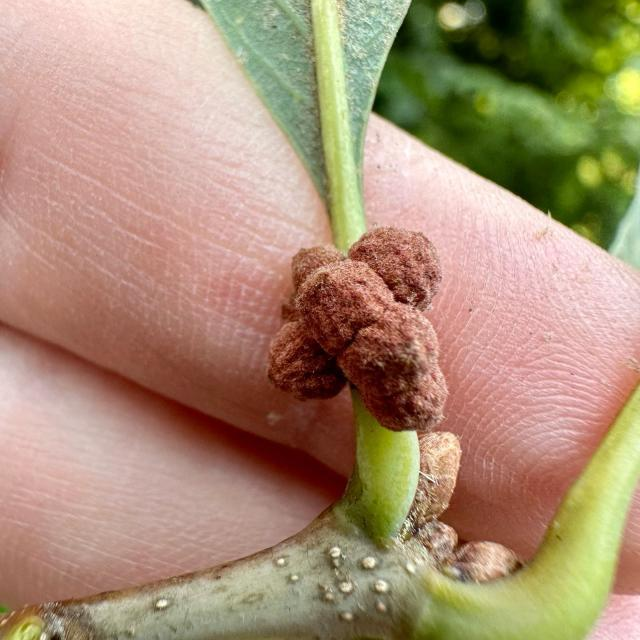Tuberculosis: (267, 227, 448, 433)
